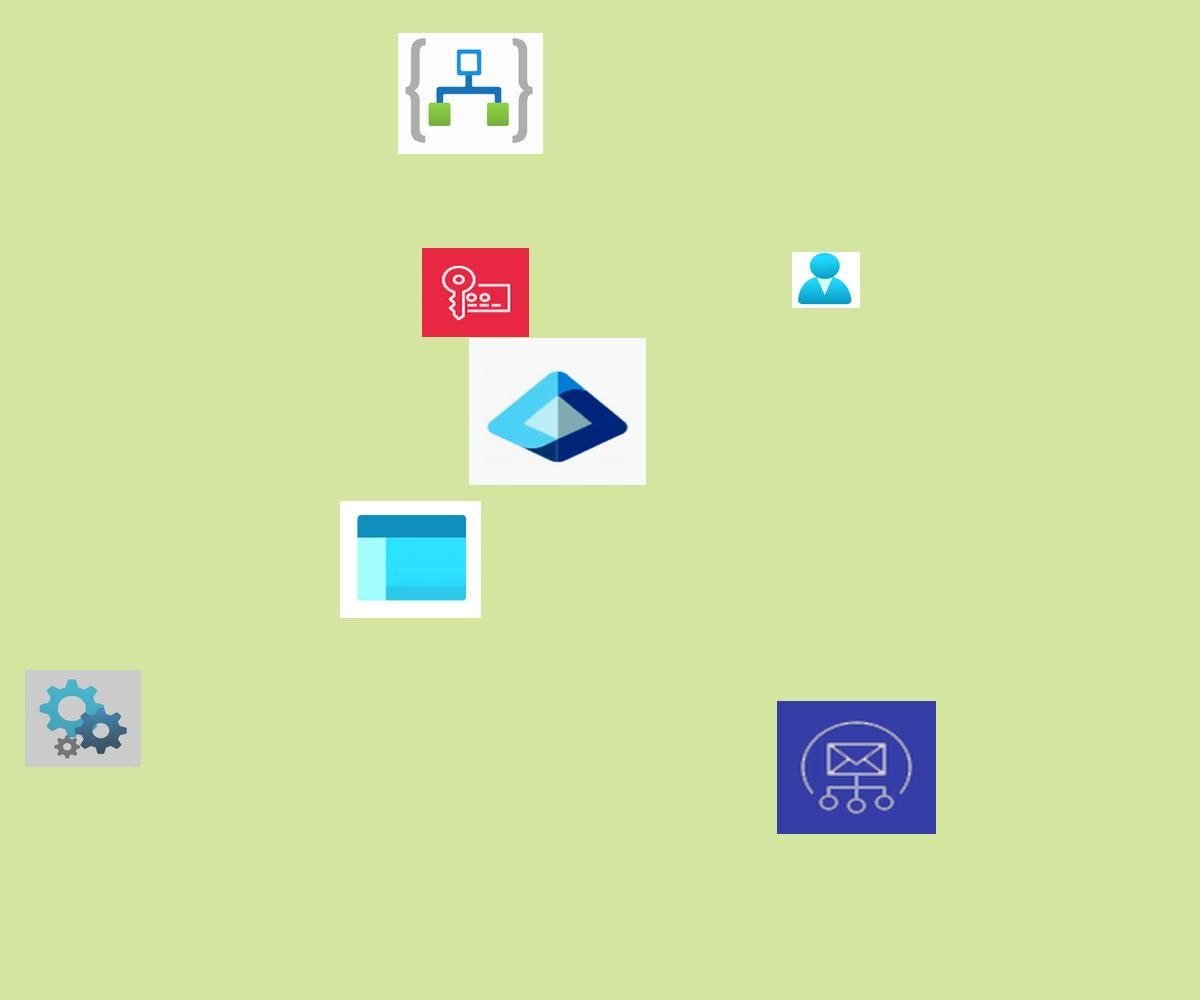AWS-Key-Management-Service: (422, 248, 529, 337)
AWS-Simple-Email-Service: (777, 701, 936, 834)
Azure_api: (25, 670, 141, 767)
Azure_integration-204-Logic-Apps: (398, 33, 543, 154)
Azure_management-portal: (340, 501, 481, 618)
Azure_microsoft_entra: (469, 338, 646, 485)
Azure_users: (792, 252, 860, 308)
